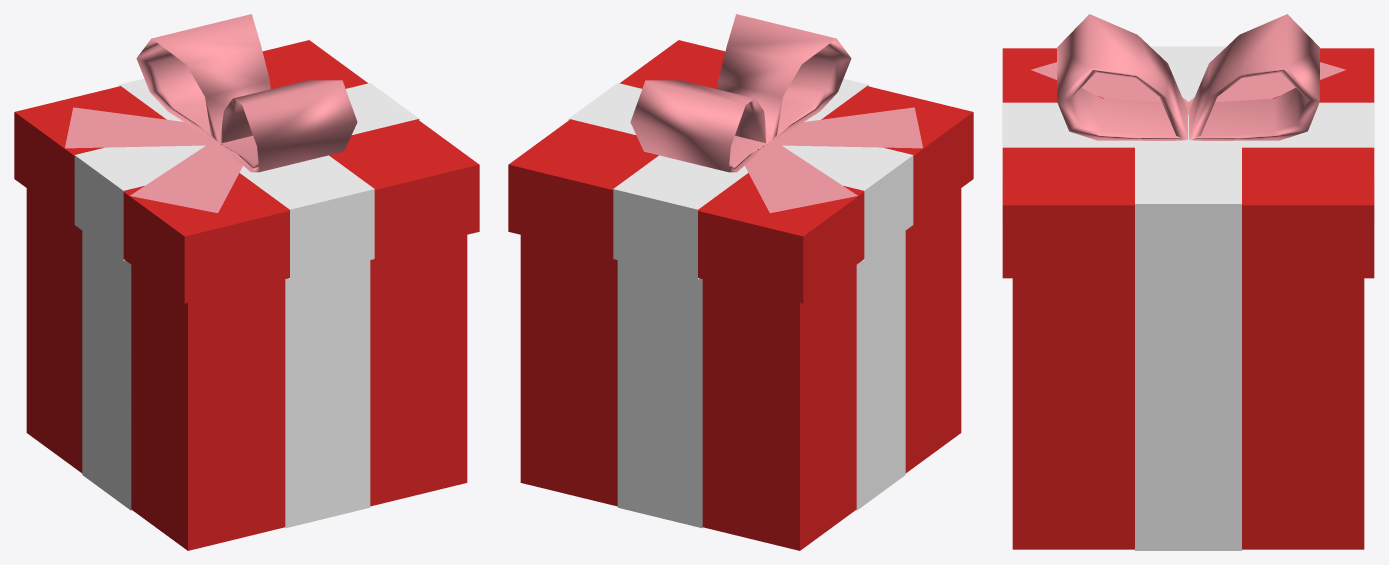
The model's file is present.fbx.
The picture shows the model from 3 angles, left to right: view 1: azimuth 30°, elevation 25°; view 2: azimuth 150°, elevation 25°; view 3: azimuth 270°, elevation 25°; orthographic projection. The views are drawn at different scales.
Visible parts, largest first — view 1: Cube.001; view 2: Cube.001; view 3: Cube.001.
Boxes of the visible parts, x1=… form: Cube.001: x1=14, y1=14, x2=479, y2=550; Cube.001: x1=508, y1=14, x2=973, y2=550; Cube.001: x1=1002, y1=14, x2=1374, y2=550.
Size of the model in its own units: 213 by 273 by 212.
